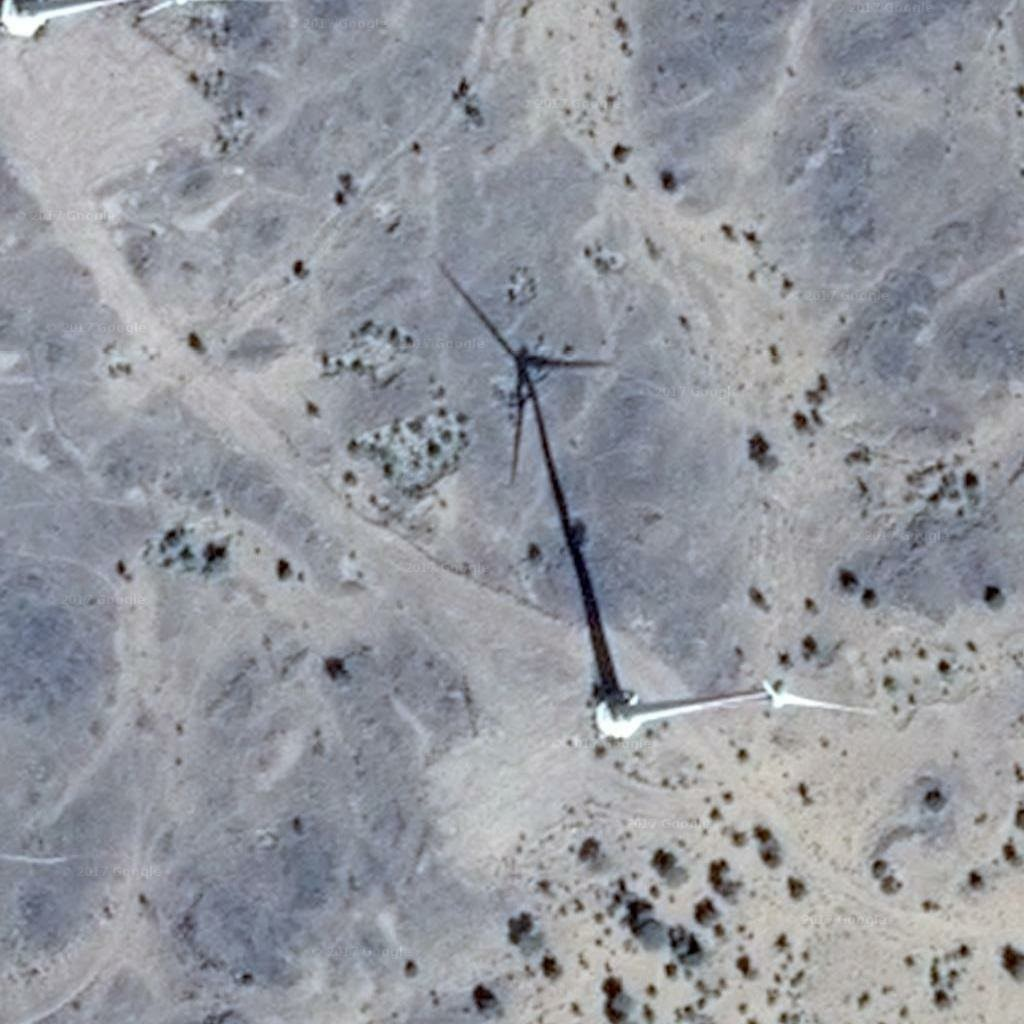Windmill: (434, 249, 634, 631)
